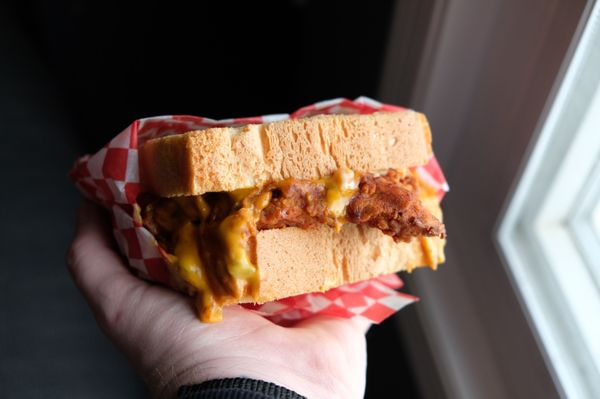soup: (67, 97, 451, 324)
